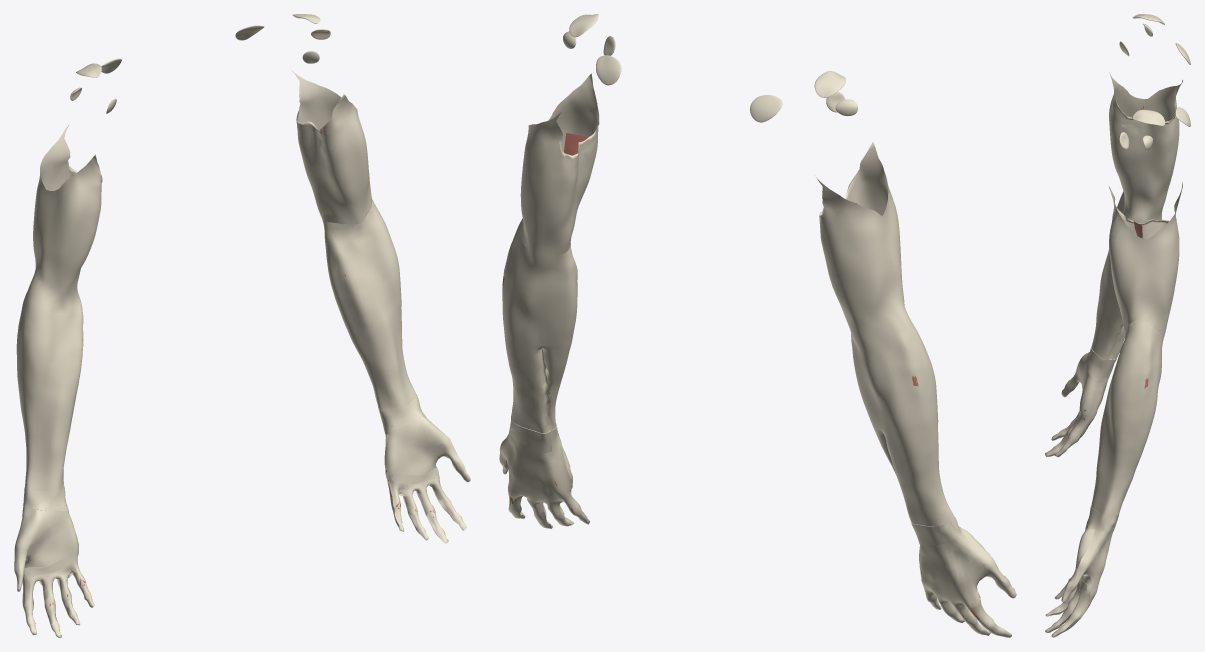
File: muscles-forearm-hand.glb
3 renders of one model, left to right at view 1: azimuth 30°, elevation 25°; view 2: azimuth 150°, elevation 25°; view 3: azimuth 270°, elevation 25°, orthographic. The views are drawn at different scales.
Parts seen in each view (by area): view 1: Antebrachial fascia.r.001, Antebrachial fascia.l.001, Brachial fascia.l.001, Brachial fascia.r.001, Palmar aponeurosis.l.001, Palmar aponeurosis.r.001, Flexor retinaculum of wrist.l.001, Flexor retinaculum of wrist.r.001; view 2: Antebrachial fascia.r.001, Antebrachial fascia.l.001, Brachial fascia.r.001, Brachial fascia.l.001, Dorsal fascia of hand.r.001, Dorsal fascia of hand.l.001, Extensor retinaculum of wrist.r.001, Extensor retinaculum of wrist.l.001; view 3: Antebrachial fascia.l.001, Brachial fascia.l.001, Brachial fascia.r.001, Antebrachial fascia.r.001, Dorsal fascia of hand.l.001, Palmar aponeurosis.l.001, Palmar aponeurosis.r.001, Dorsal fascia of hand.r.001, Flexor retinaculum of wrist.r.001, Subcutaneous acromial bursa.l.001, Flexor retinaculum of wrist.l.001.
Part boxes in pixels (bbox=[...]): Antebrachial fascia.r.001: bbox=[16, 275, 83, 491]; Antebrachial fascia.l.001: bbox=[322, 199, 416, 410]; Brachial fascia.l.001: bbox=[291, 70, 371, 224]; Brachial fascia.r.001: bbox=[33, 124, 102, 296]; Palmar aponeurosis.l.001: bbox=[384, 415, 470, 543]; Palmar aponeurosis.r.001: bbox=[16, 509, 94, 637]; Flexor retinaculum of wrist.l.001: bbox=[379, 394, 422, 434]; Flexor retinaculum of wrist.r.001: bbox=[24, 487, 68, 511]; Antebrachial fascia.r.001: bbox=[849, 304, 954, 526]; Antebrachial fascia.l.001: bbox=[502, 219, 577, 433]; Brachial fascia.r.001: bbox=[816, 142, 904, 333]; Brachial fascia.l.001: bbox=[520, 73, 599, 255]; Dorsal fascia of hand.r.001: bbox=[919, 532, 1016, 637]; Dorsal fascia of hand.l.001: bbox=[499, 430, 589, 528]; Extensor retinaculum of wrist.r.001: bbox=[911, 522, 959, 545]; Extensor retinaculum of wrist.l.001: bbox=[509, 417, 552, 452]; Antebrachial fascia.l.001: bbox=[1091, 319, 1166, 515]; Brachial fascia.l.001: bbox=[1109, 181, 1182, 331]; Brachial fascia.r.001: bbox=[1109, 72, 1182, 204]; Antebrachial fascia.r.001: bbox=[1091, 191, 1165, 359]; Dorsal fascia of hand.l.001: bbox=[1046, 530, 1112, 637]; Palmar aponeurosis.l.001: bbox=[1045, 524, 1094, 636]; Palmar aponeurosis.r.001: bbox=[1045, 353, 1093, 456]; Dorsal fascia of hand.r.001: bbox=[1046, 376, 1109, 457]; Flexor retinaculum of wrist.r.001: bbox=[1086, 346, 1109, 378]; Subcutaneous acromial bursa.l.001: bbox=[1132, 109, 1164, 125]; Flexor retinaculum of wrist.l.001: bbox=[1086, 505, 1111, 530].
Bounding box in the file's own units: 0.6708 × 0.7239 × 0.1991.
